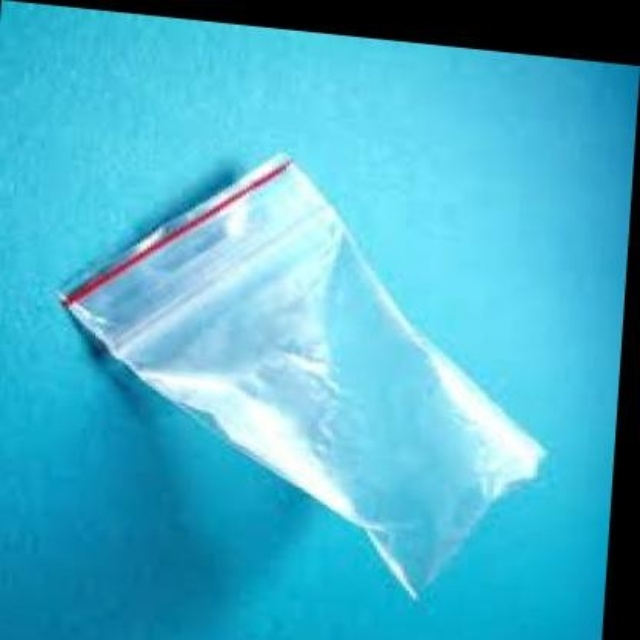trash: (62, 154, 543, 597)
